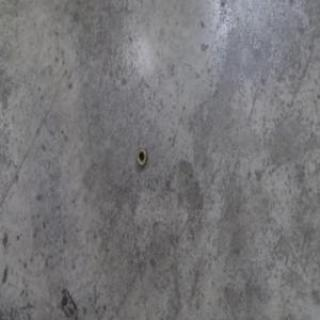Nuttrack_idkeyframe: (134, 146, 147, 168)
